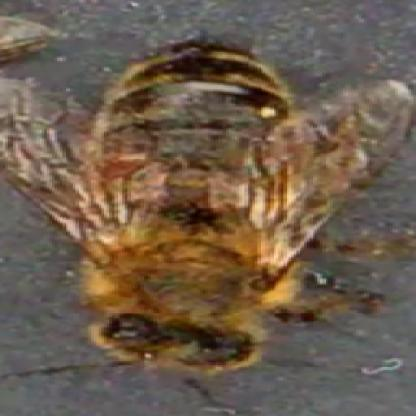bee: (58, 38, 340, 392)
